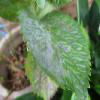Squash Powdery mildew leaf: (14, 3, 92, 99)
